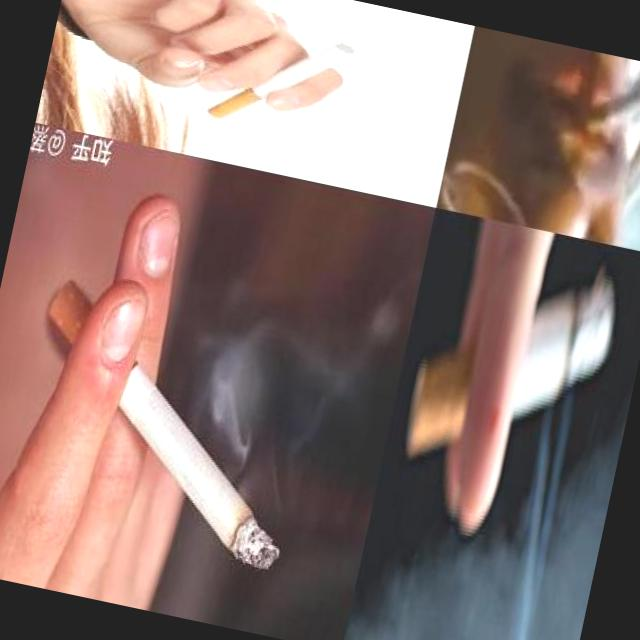cigarette: (4, 274, 326, 574), (398, 235, 628, 495), (199, 17, 360, 148), (568, 51, 640, 163)
